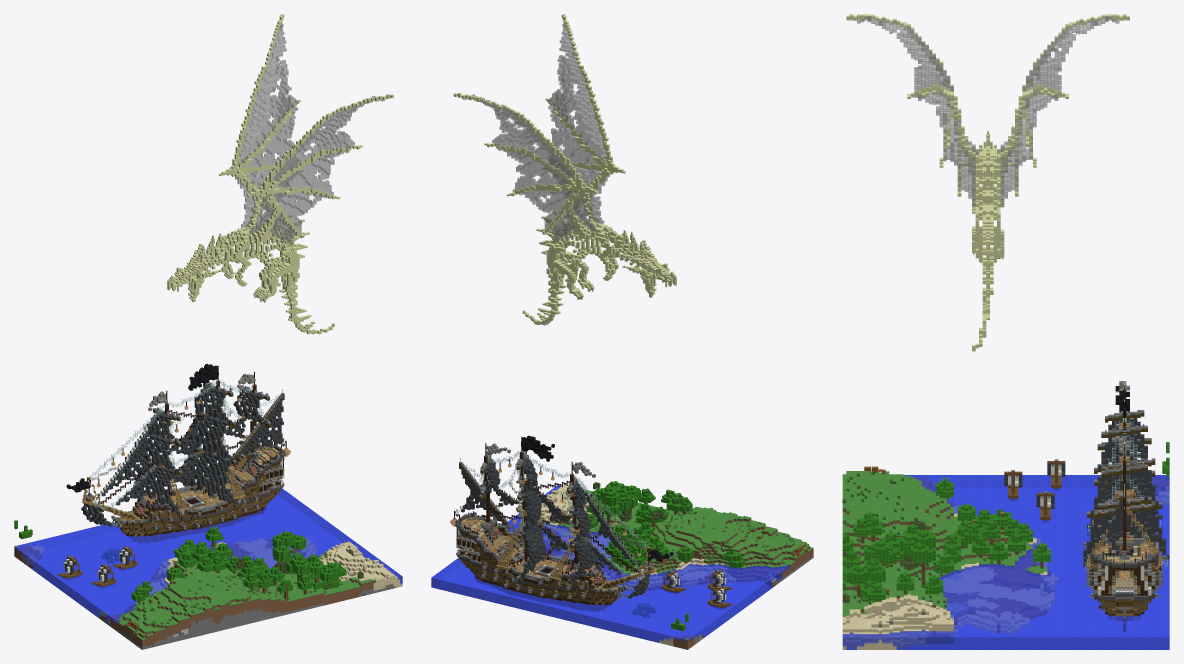
The model's file is pirate-ship-and-skeleton-dragon.glb.
3 views of the same model, side by side, from view 1: azimuth 30°, elevation 25°; view 2: azimuth 150°, elevation 25°; view 3: azimuth 270°, elevation 25° (orthographic). The views are drawn at different scales.
Visible parts, largest first — view 1: Stone, Stationary_Water, Oak_Leaves; view 2: Stone, Stationary_Water, Oak_Leaves; view 3: Stone, Stationary_Water, Oak_Leaves.
Part boxes in pixels (<box>): Stone: <box>14,14,402,649</box>; Stationary_Water: <box>15,23,402,624</box>; Oak_Leaves: <box>14,379,363,628</box>; Stone: <box>453,14,813,649</box>; Stationary_Water: <box>431,23,789,642</box>; Oak_Leaves: <box>455,451,799,630</box>; Stone: <box>842,14,1169,649</box>; Stationary_Water: <box>842,16,1169,649</box>; Oak_Leaves: <box>842,418,1169,607</box>.
Size of the model in its own units: 107 by 193 by 91.06.
Materials: 5 (5 with a texture image).
